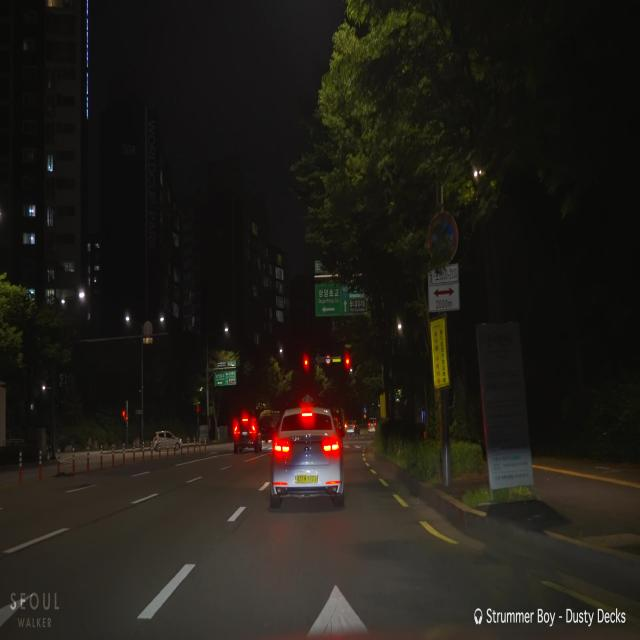Red Light: (304, 359, 308, 366), (346, 358, 350, 364)
